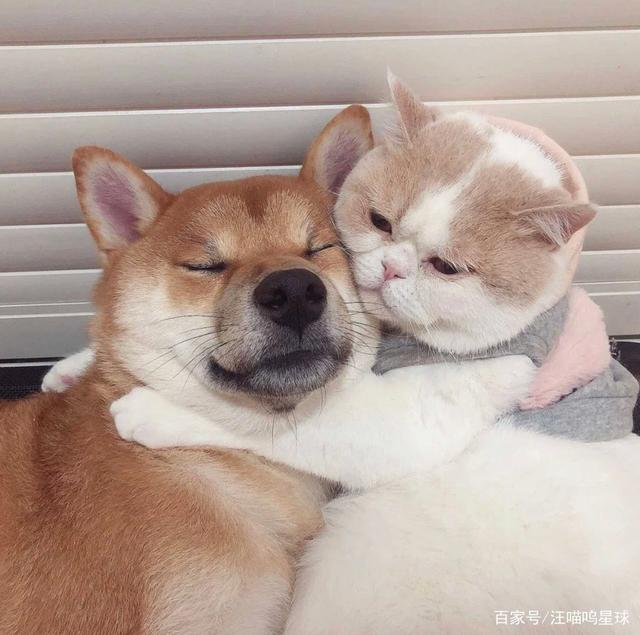cat: (342, 72, 640, 628)
